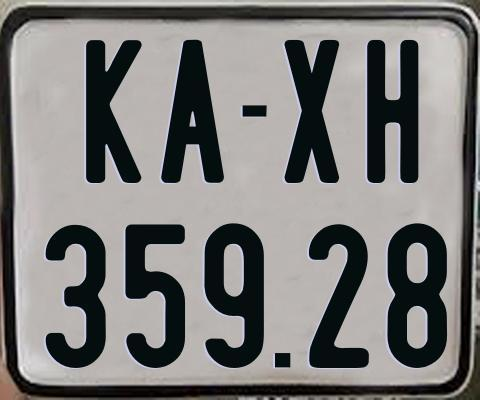2: (308, 222, 369, 366)
3: (46, 225, 106, 369)
5: (124, 221, 186, 371)
8: (384, 221, 448, 368)
9: (203, 221, 264, 369)
A: (161, 40, 228, 186)
H: (364, 38, 419, 182)
K: (85, 39, 146, 187)
X: (281, 37, 336, 181)
